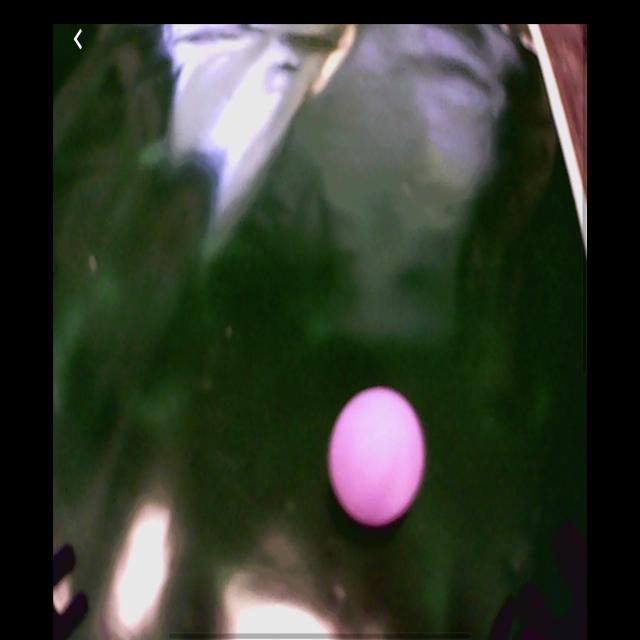ball: (327, 386, 427, 532)
